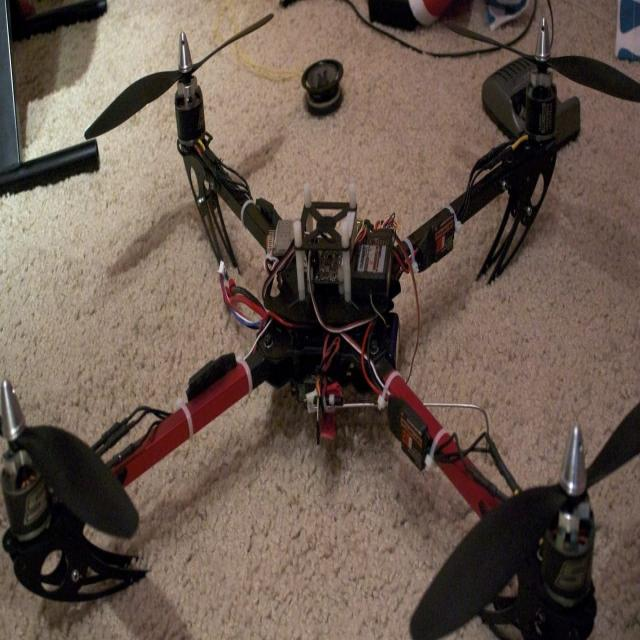drone: (0, 49, 640, 590)
